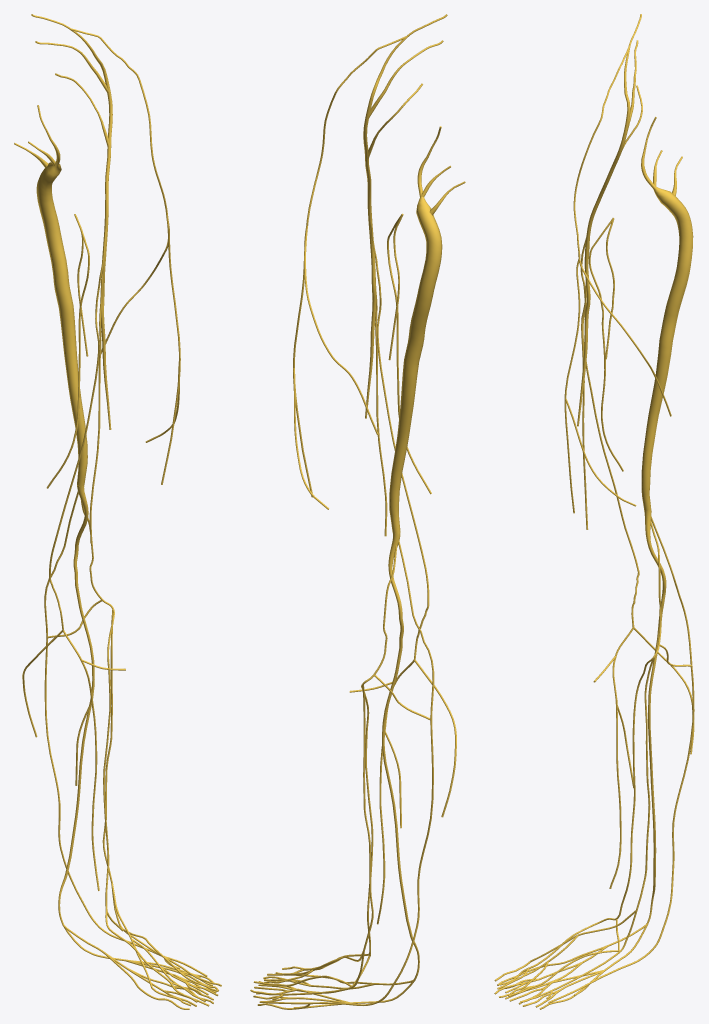
File: nervous_peripheral.lower_limb_left.glb
The picture shows the model from 3 angles, left to right: view 1: azimuth 30°, elevation 25°; view 2: azimuth 210°, elevation 25°; view 3: azimuth 270°, elevation 25°; orthographic projection. The views are drawn at different scales.
Parts seen in each view (by area): view 1: left_sciatic_nerve, left_saphenous_nerve, left_femoral_nerve, left_lateral_femoral_cutaneous_nerve, left_tibial_nerve, left_sural_nerve, left_deep_fibular_nerve, left_anterior_branch_of_obturator_nerve, left_anterior_cutaneous_branches_of_femoral_nerve, left_superficial_fibular_nerve, left_dorsal_digital_branches_of_superficial_fibular_nerve; view 2: left_sciatic_nerve, left_saphenous_nerve, left_femoral_nerve, left_lateral_femoral_cutaneous_nerve, left_tibial_nerve, left_sural_nerve, left_superficial_fibular_nerve, left_anterior_cutaneous_branches_of_femoral_nerve, left_deep_fibular_nerve, left_anterior_branch_of_obturator_nerve, left_dorsal_digital_branches_of_superficial_fibular_nerve; view 3: left_sciatic_nerve, left_saphenous_nerve, left_femoral_nerve, left_lateral_femoral_cutaneous_nerve, left_tibial_nerve, left_sural_nerve, left_deep_fibular_nerve, left_superficial_fibular_nerve, left_anterior_branch_of_obturator_nerve, left_dorsal_digital_branches_of_superficial_fibular_nerve, left_anterior_cutaneous_branches_of_femoral_nerve.
Boxes of the visible parts, x1,y1,x2,y2 form: left_sciatic_nerve: [14, 105, 87, 486]; left_saphenous_nerve: [22, 228, 106, 890]; left_femoral_nerve: [31, 14, 112, 429]; left_lateral_femoral_cutaneous_nerve: [70, 28, 180, 484]; left_tibial_nerve: [58, 485, 94, 924]; left_sural_nerve: [44, 588, 207, 976]; left_deep_fibular_nerve: [103, 608, 146, 962]; left_anterior_branch_of_obturator_nerve: [46, 214, 89, 488]; left_anterior_cutaneous_branches_of_femoral_nerve: [89, 246, 103, 543]; left_superficial_fibular_nerve: [102, 609, 113, 883]; left_dorsal_digital_branches_of_superficial_fibular_nerve: [151, 957, 221, 1006]; left_sciatic_nerve: [389, 126, 465, 533]; left_saphenous_nerve: [373, 241, 456, 924]; left_femoral_nerve: [363, 14, 447, 418]; left_lateral_femoral_cutaneous_nerve: [293, 36, 406, 509]; left_tibial_nerve: [382, 533, 419, 980]; left_sural_nerve: [265, 661, 434, 1008]; left_superficial_fibular_nerve: [362, 685, 373, 950]; left_anterior_cutaneous_branches_of_femoral_nerve: [370, 220, 387, 536]; left_deep_fibular_nerve: [328, 684, 373, 965]; left_anterior_branch_of_obturator_nerve: [387, 213, 431, 494]; left_dorsal_digital_branches_of_superficial_fibular_nerve: [250, 966, 322, 999]; left_sciatic_nerve: [641, 116, 693, 510]; left_saphenous_nerve: [580, 238, 694, 888]; left_femoral_nerve: [577, 14, 642, 426]; left_lateral_femoral_cutaneous_nerve: [564, 46, 671, 513]; left_tibial_nerve: [644, 509, 666, 923]; left_sural_nerve: [548, 612, 694, 1003]; left_deep_fibular_nerve: [554, 657, 653, 951]; left_superficial_fibular_nerve: [636, 657, 654, 910]; left_anterior_branch_of_obturator_nerve: [589, 217, 623, 471]; left_dorsal_digital_branches_of_superficial_fibular_nerve: [494, 961, 578, 1002]; left_anterior_cutaneous_branches_of_femoral_nerve: [581, 238, 589, 529].
Size of the model in its own units: 0.1589 by 1.11 by 0.2161.
